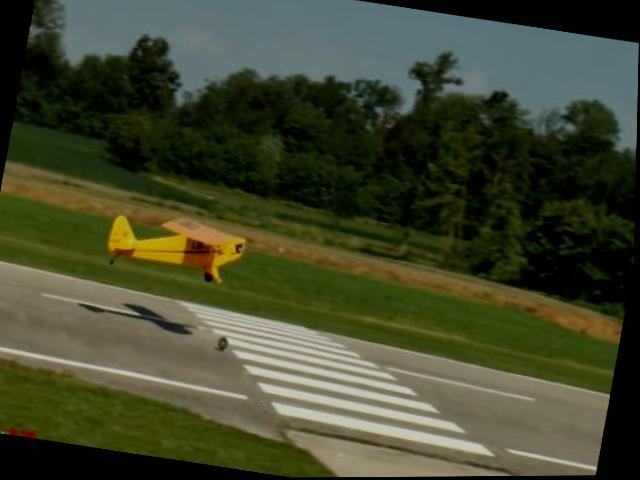uav: (103, 204, 256, 288)
